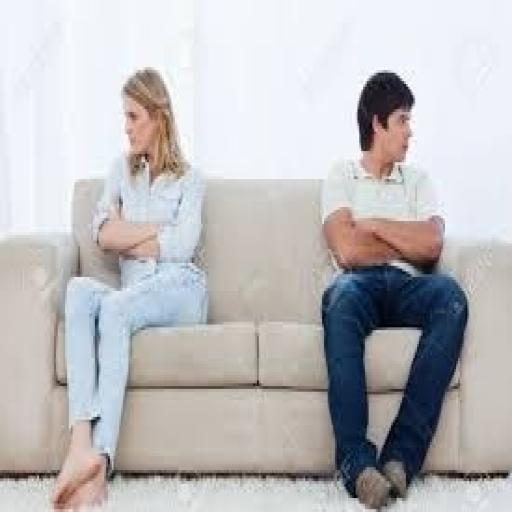sitting: (47, 56, 471, 506), (48, 64, 210, 510), (317, 67, 469, 509)
